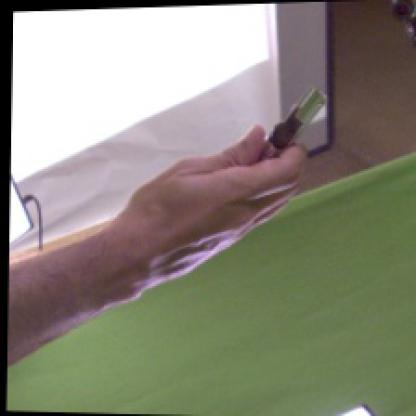Hand: (118, 122, 312, 292)
